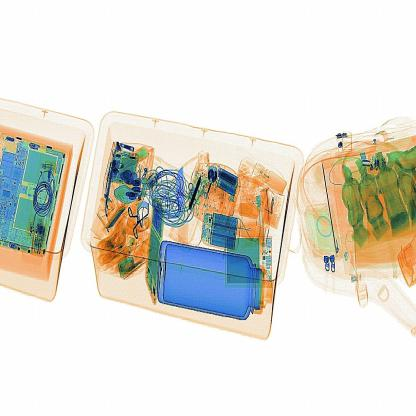wrench: (167, 150, 193, 250)
